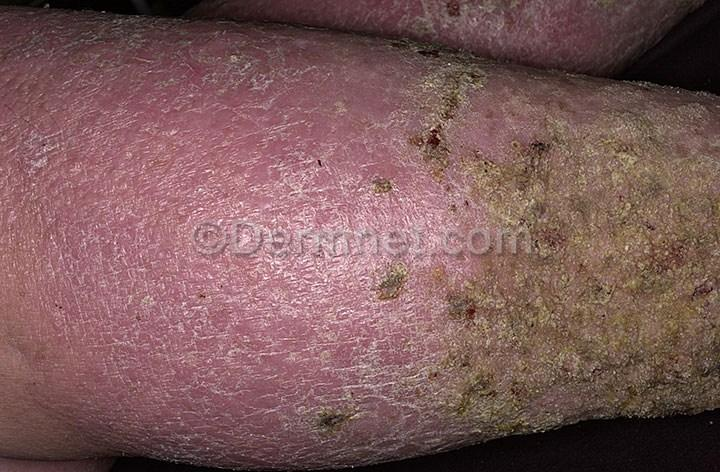Eczema: (0, 263, 227, 465), (338, 49, 541, 220), (544, 85, 717, 282), (0, 16, 134, 238), (157, 34, 339, 197), (369, 257, 530, 441), (525, 283, 719, 428), (236, 347, 371, 471), (222, 269, 366, 343), (404, 0, 570, 51), (572, 0, 653, 57)
